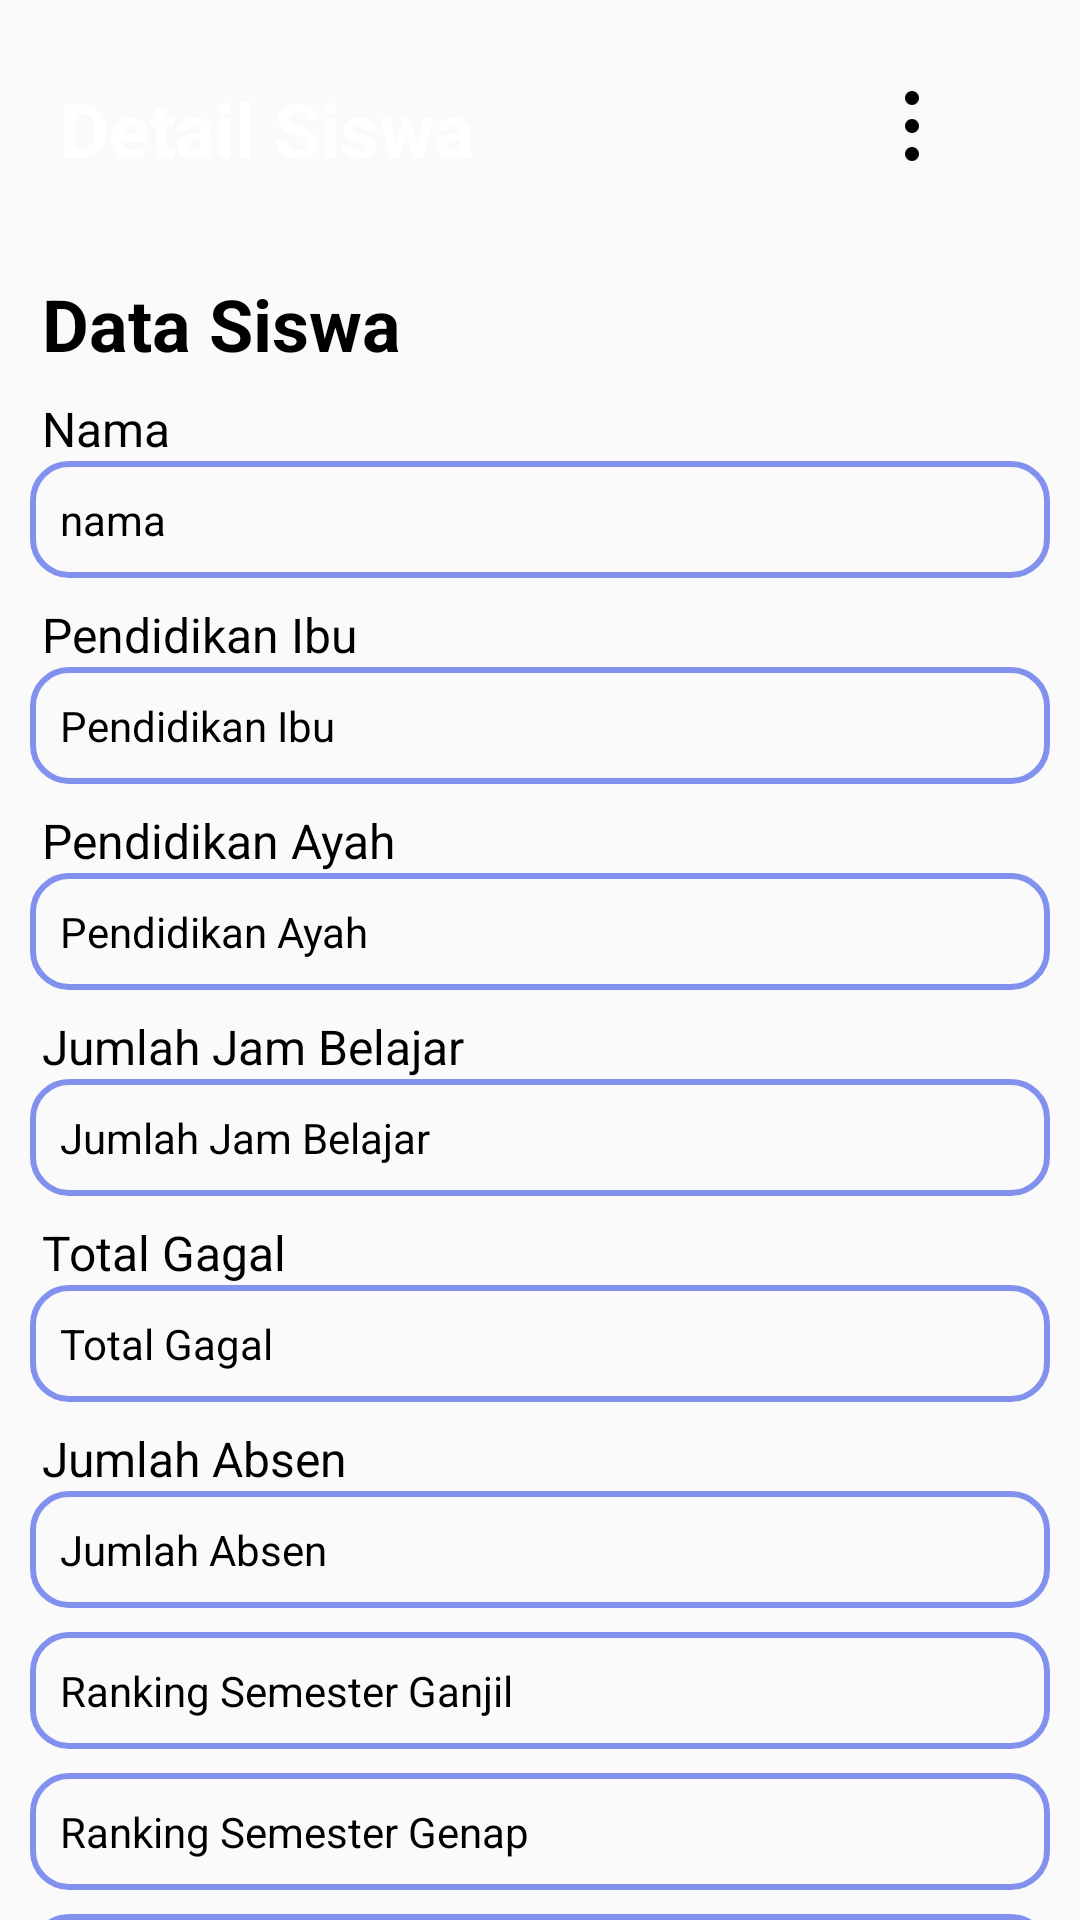

Screen size 1080w x 1920h. Icon name, then its center in pixels as (x,y):
more: (912,126)
